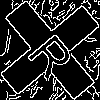R: (25, 25, 84, 82)
